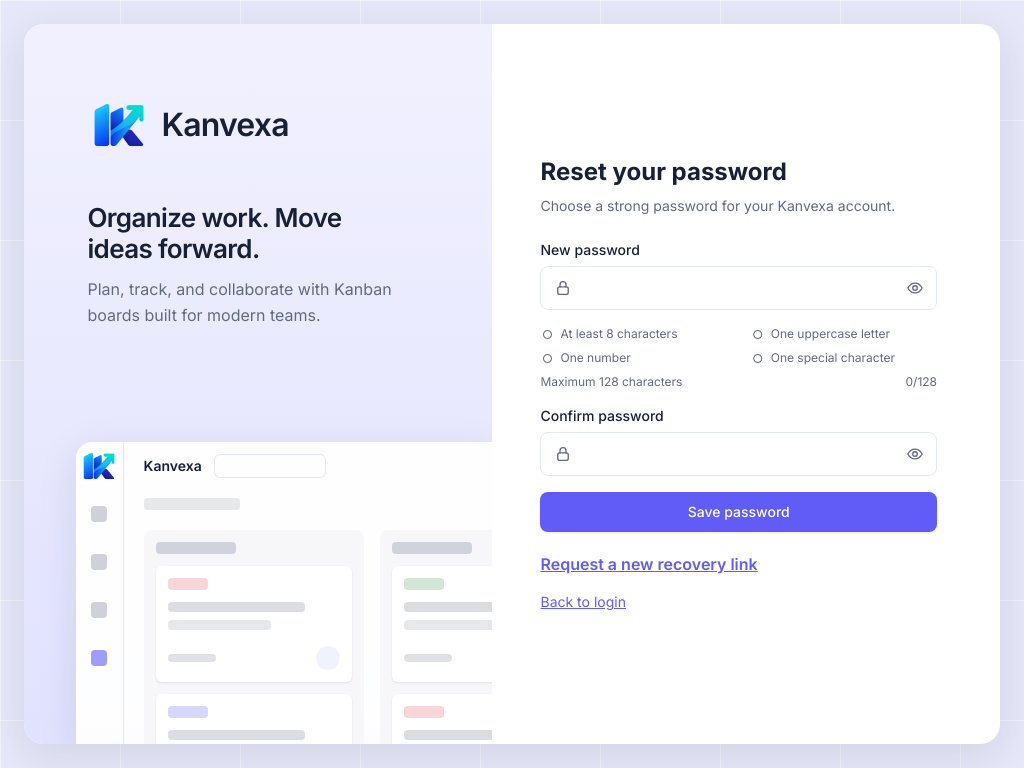
Scenario: password recovery routes › resets with a POST body and returns to login with feedback and no session
The image size is (1024, 768).
Type "NewPass123!" into the password field labelled "New password" at (739, 288), box [540,266,937,310]
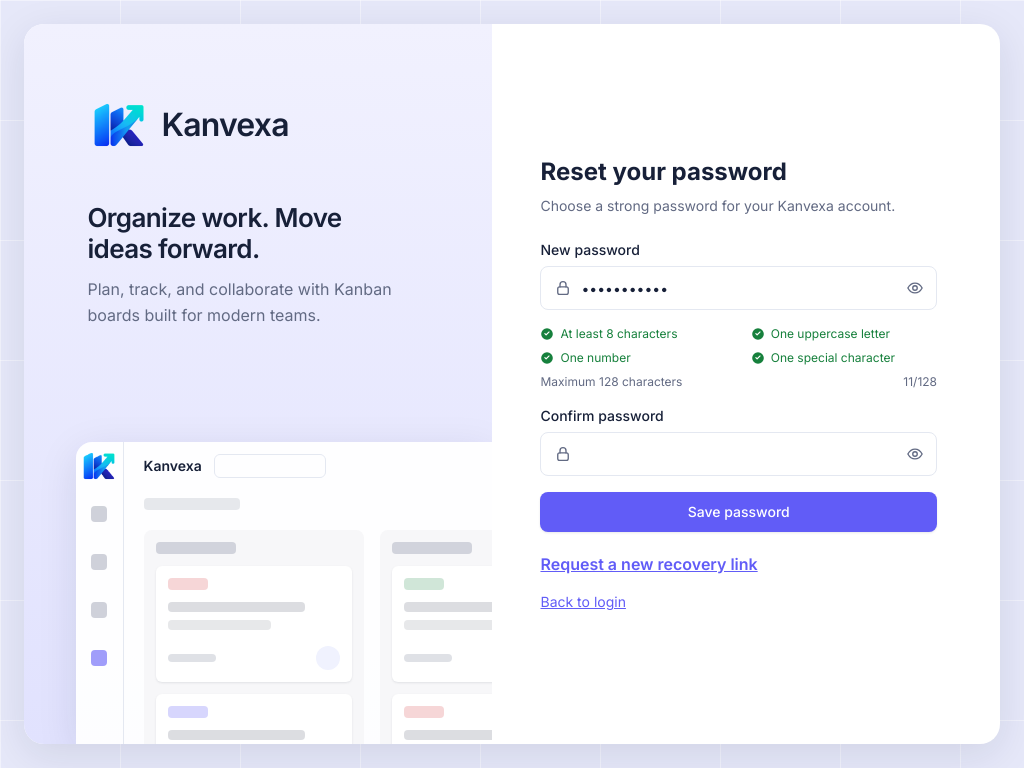
Type "NewPass123!" into the password field labelled "Confirm password" at (739, 454), box [540,432,937,476]
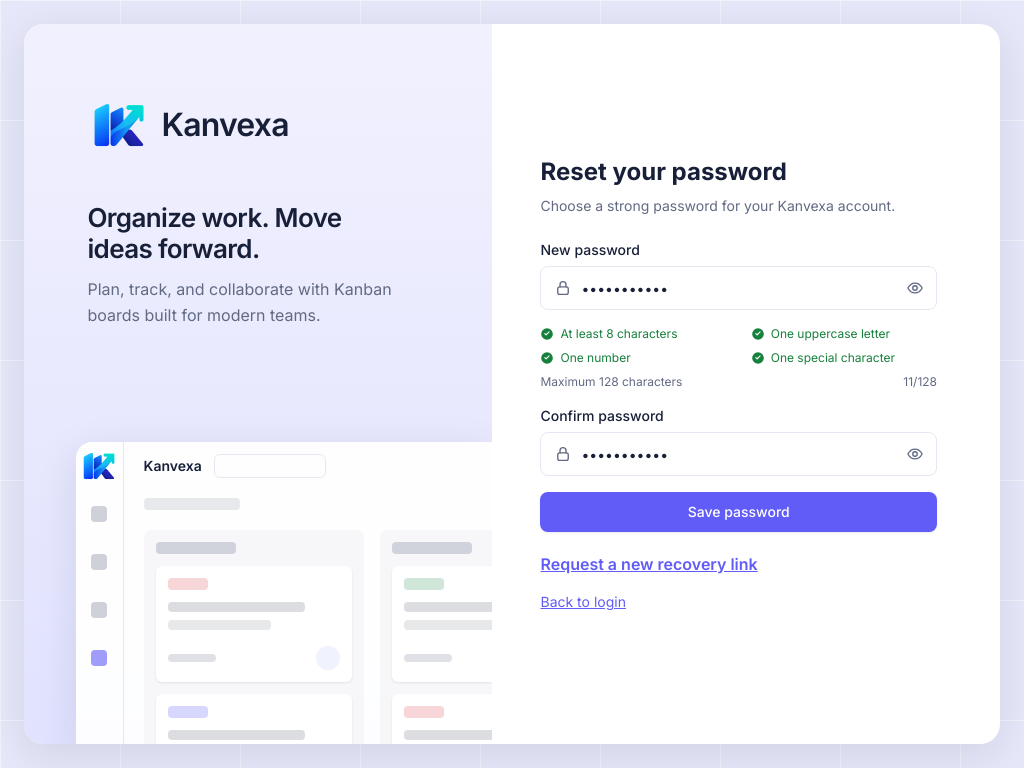
Click the button "Save password" at (739, 512), box [540,492,937,532]
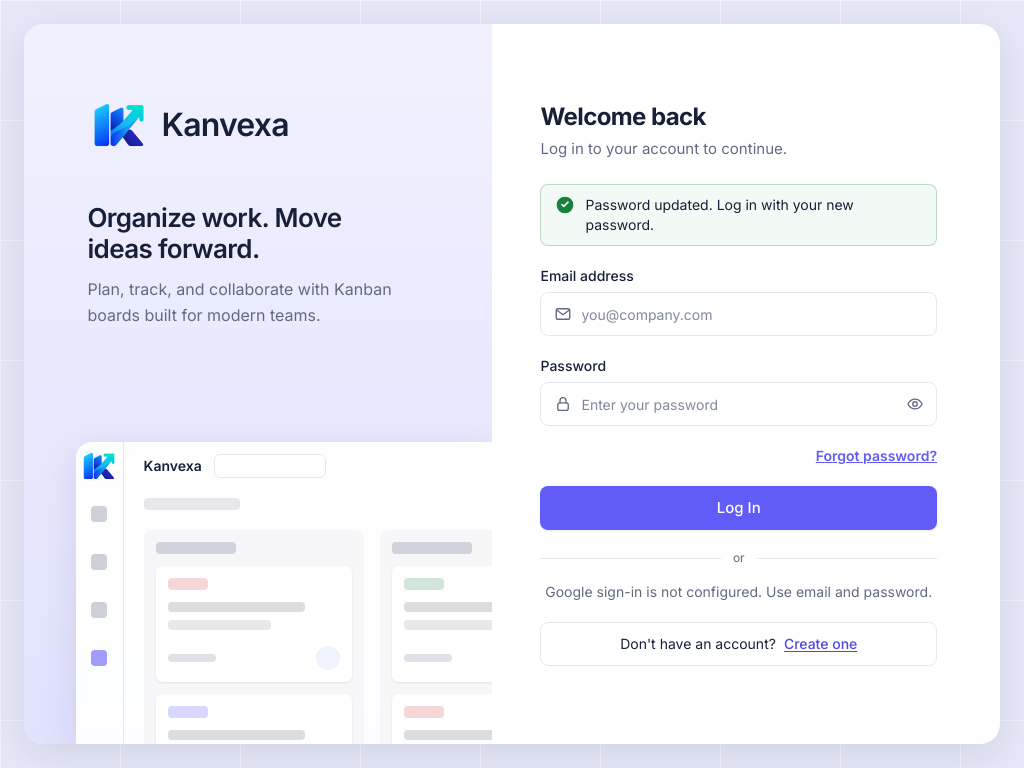
Result: the heading "Welcome back" is shown at [540,102,706,131]
Result: the text "Password updated. Log in with your new password." is shown at [586,196,854,233]
